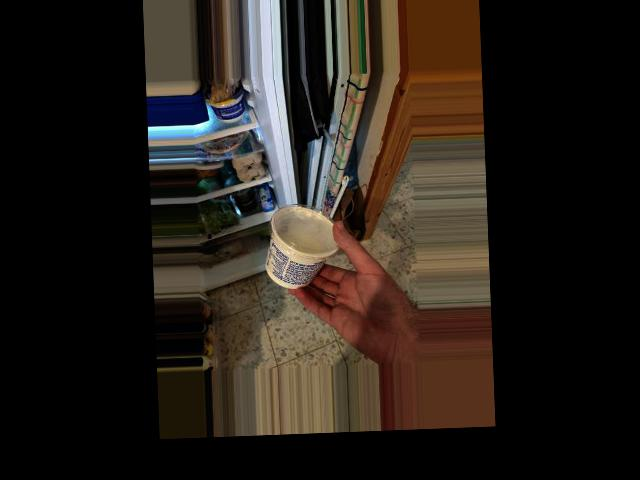cotage: (269, 203, 336, 293)
